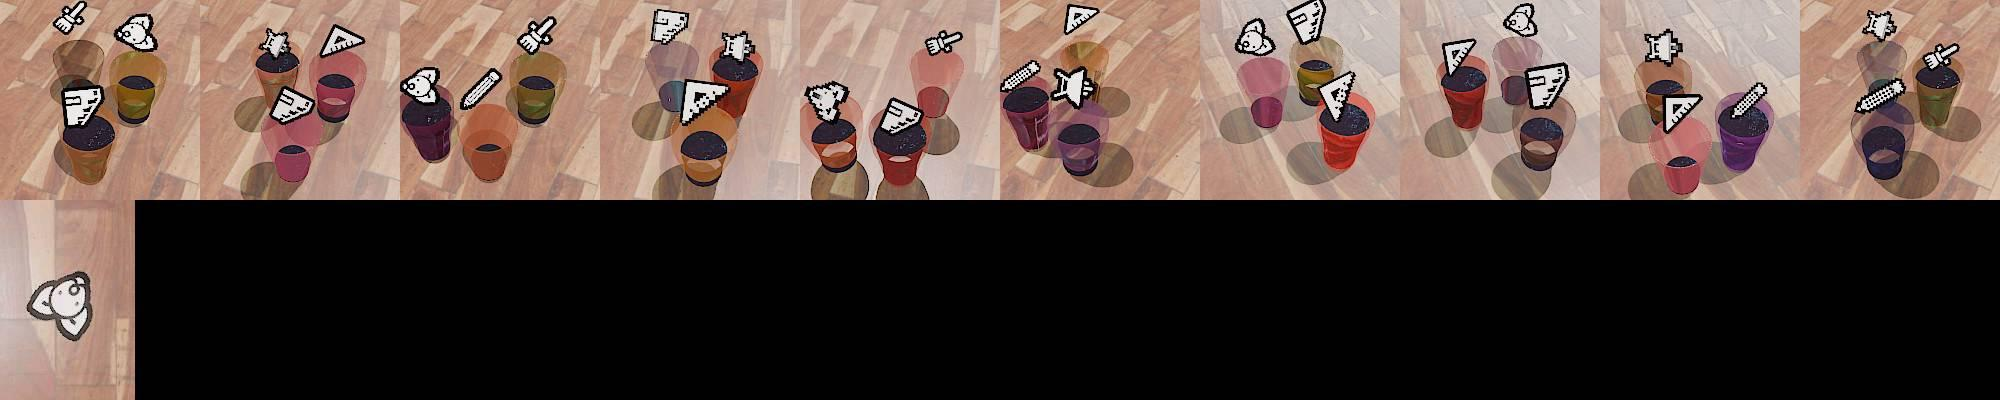icon: (24, 268, 94, 343), (677, 78, 732, 124), (1524, 62, 1569, 112), (1315, 70, 1356, 124), (1855, 76, 1907, 116), (1052, 65, 1097, 110), (460, 66, 504, 111), (879, 94, 926, 135), (61, 84, 105, 127), (805, 79, 849, 121), (1661, 89, 1702, 135), (1286, 0, 1327, 46), (269, 85, 316, 124), (114, 13, 158, 52), (319, 23, 366, 60), (518, 15, 559, 56), (1727, 82, 1767, 122), (1235, 18, 1274, 57), (402, 65, 443, 103), (999, 59, 1042, 93), (652, 8, 690, 46), (1643, 28, 1681, 65), (1441, 37, 1477, 76), (719, 29, 758, 64), (52, 0, 88, 36), (1922, 42, 1962, 74), (1503, 3, 1538, 37), (259, 25, 293, 60), (1864, 9, 1898, 43), (1064, 4, 1101, 36), (925, 28, 963, 56)
